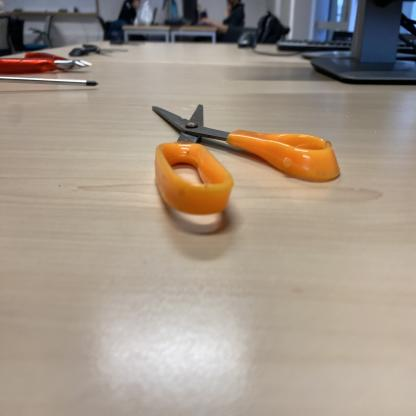scissors: (149, 102, 344, 216), (69, 42, 130, 62)
